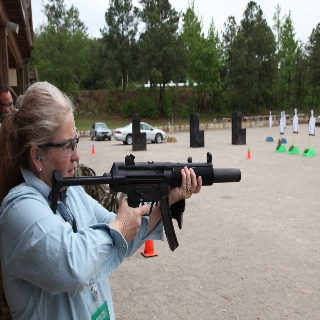rifle: (50, 152, 243, 251)
